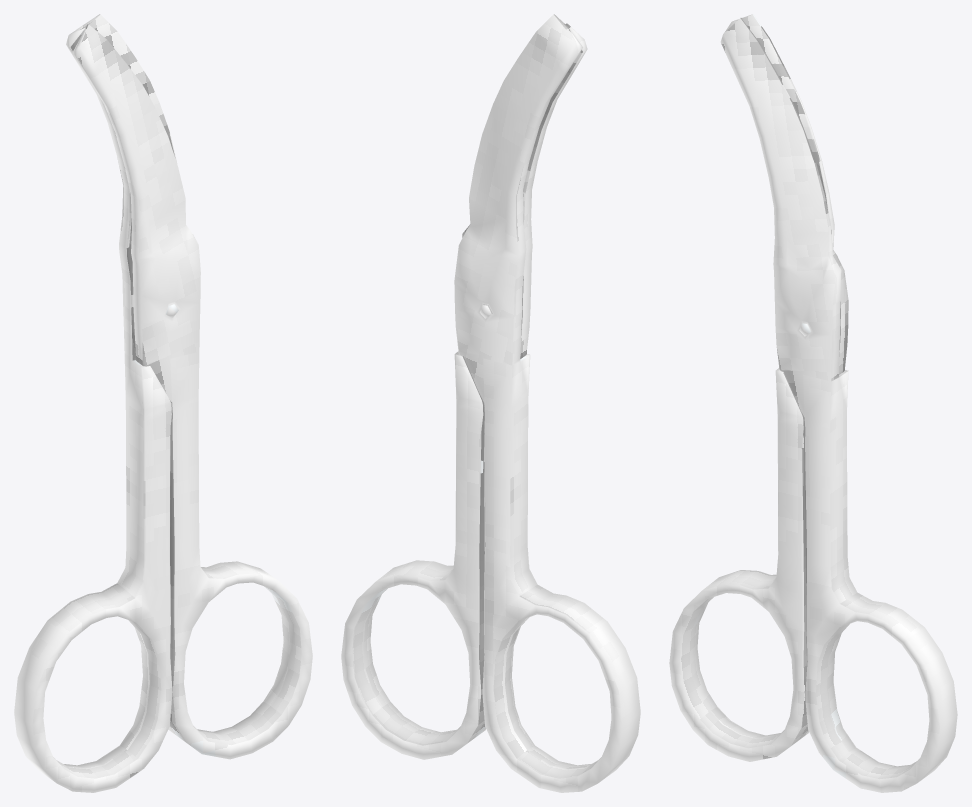
The model's file is SurgicalSheers.glb.
3 renders of one model, left to right at view 1: azimuth 30°, elevation 25°; view 2: azimuth 150°, elevation 25°; view 3: azimuth 330°, elevation 25°, orthographic. The views are drawn at different scales.
Parts seen in each view (by area): view 1: SurgicalSheers; view 2: SurgicalSheers; view 3: SurgicalSheers.
Boxes of the visible parts, x1,y1,x2,y2 form: SurgicalSheers: (14, 14, 312, 792); SurgicalSheers: (341, 14, 640, 792); SurgicalSheers: (669, 14, 957, 792).
Size of the model in its own units: 0.0665 by 0.174 by 0.00809.
Materials: 1 (1 with a texture image).
